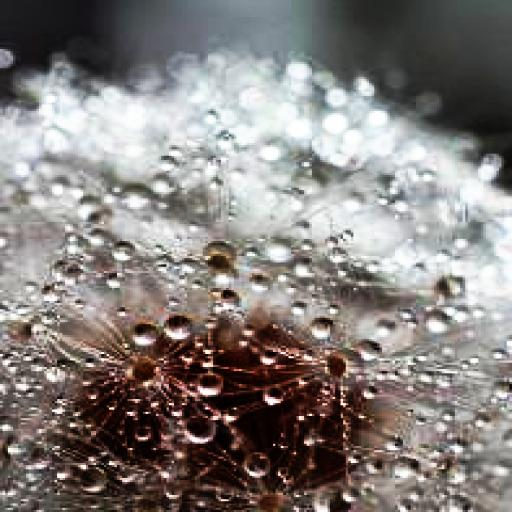dandelion: (0, 4, 512, 512)
